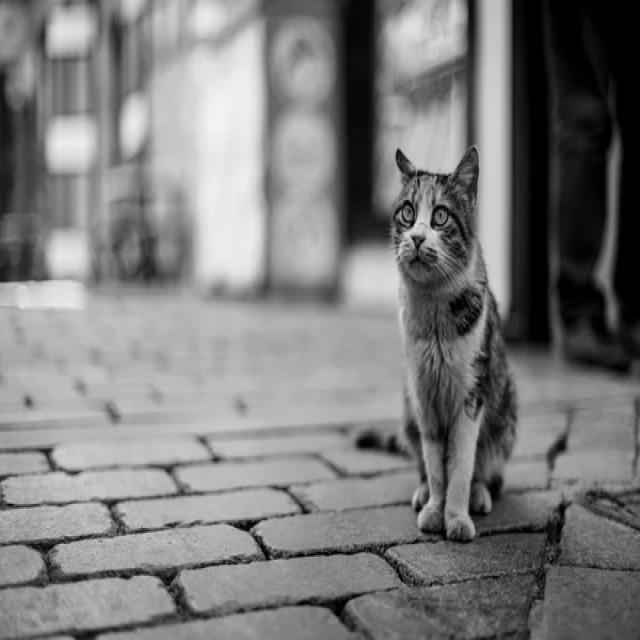Animal: (392, 146, 518, 542)
